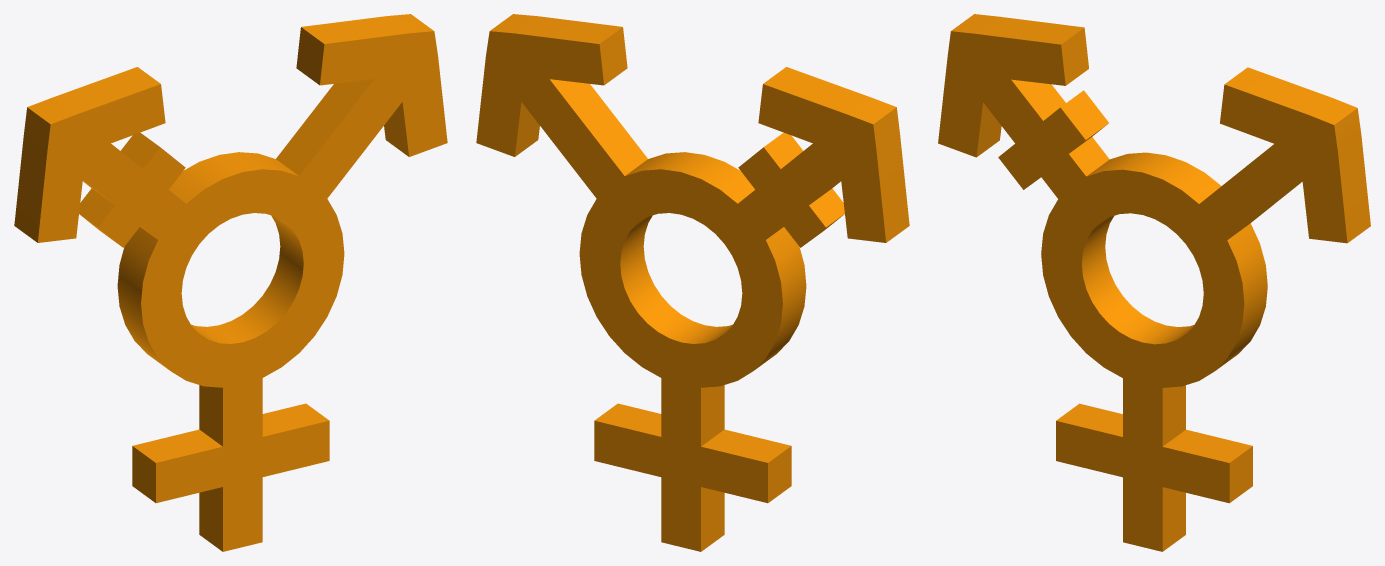
File: transgender_symbol.gltf
3 views of the same model, side by side, from view 1: azimuth 30°, elevation 25°; view 2: azimuth 150°, elevation 25°; view 3: azimuth 330°, elevation 25° (orthographic).
Visible parts, largest first — view 1: Circle.2634; view 2: Circle.2634; view 3: Circle.2634.
Boxes of the visible parts, x1=… form: Circle.2634: x1=14, y1=14, x2=447, y2=551; Circle.2634: x1=476, y1=14, x2=909, y2=551; Circle.2634: x1=938, y1=14, x2=1370, y2=551.
Bounding box in the file's own units: 1.93 × 2.18 × 0.192.
1 material, 1 textured.
